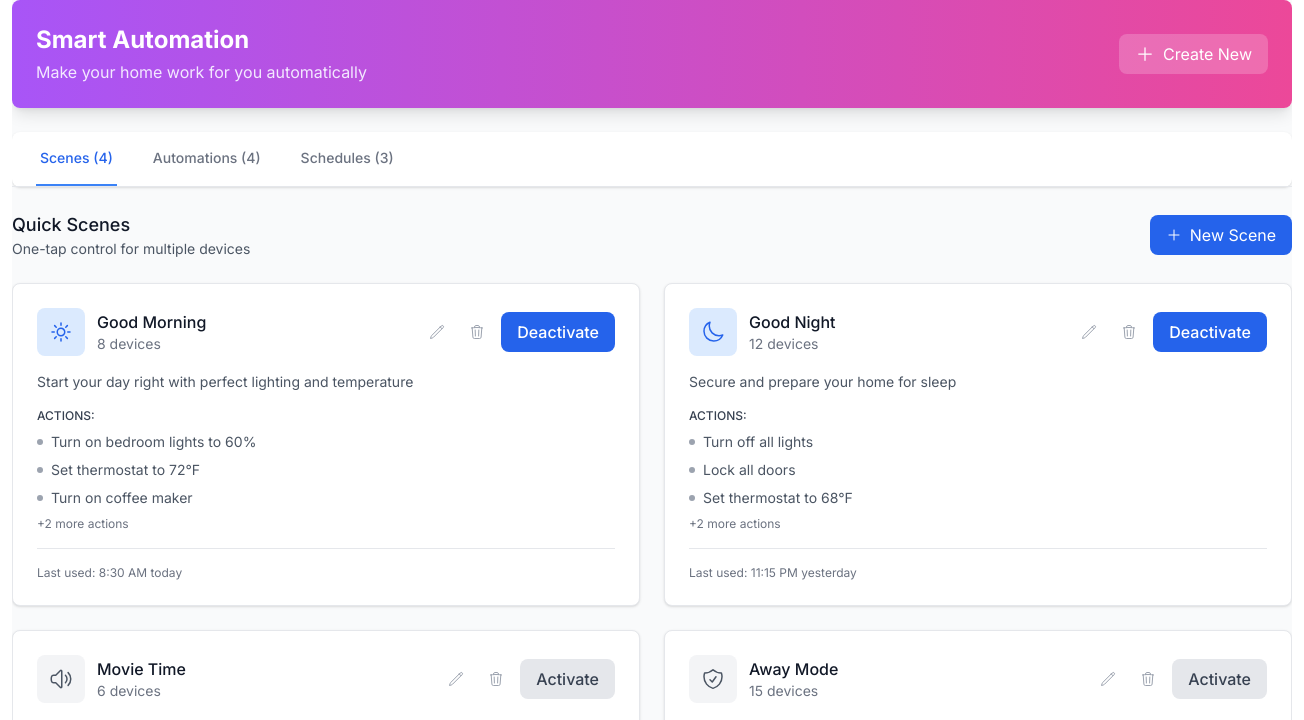
Test case: ConsumerAutomation › Tab Navigation › switches to automations tab when clicked
Click the button "Automations (4)" at coordinates (207, 159), box [149,132,265,186]
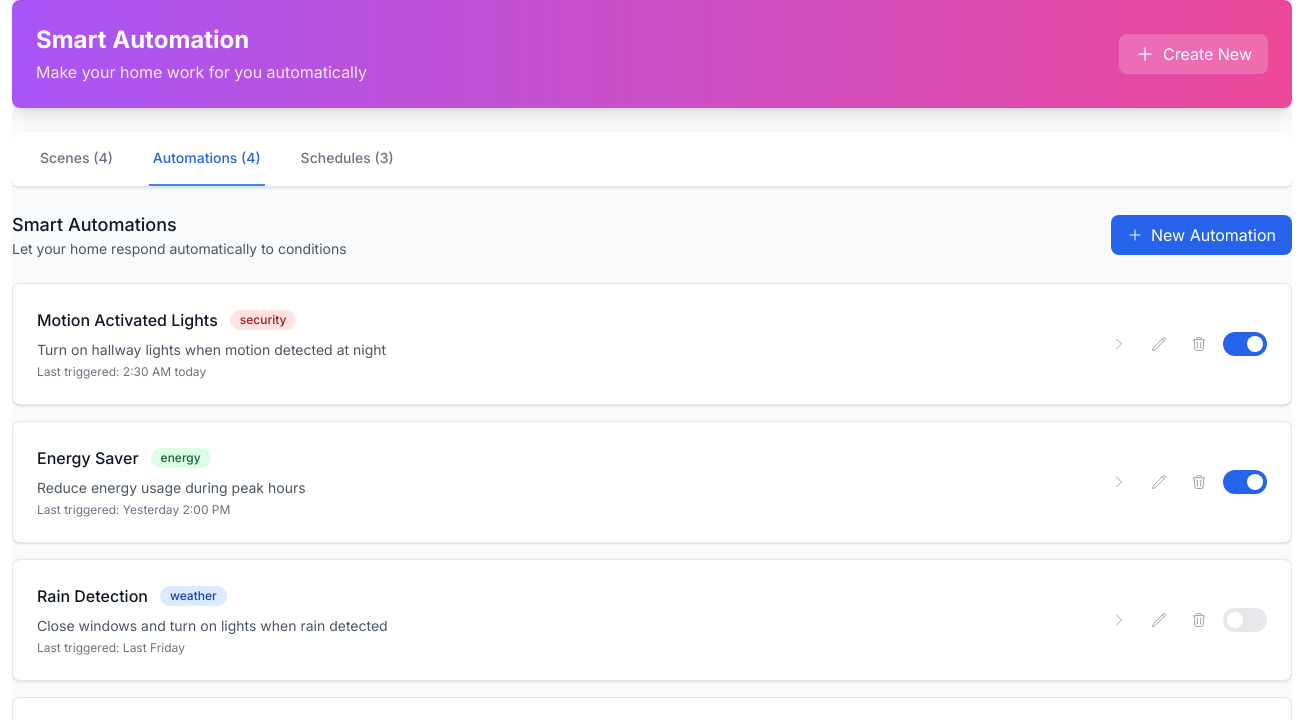
expect the heading "Smart Automations" is shown: met, box [12,214,177,235]
expect the text "Let your home respond automatically to conditions" is shown: met, box [12,239,347,259]
